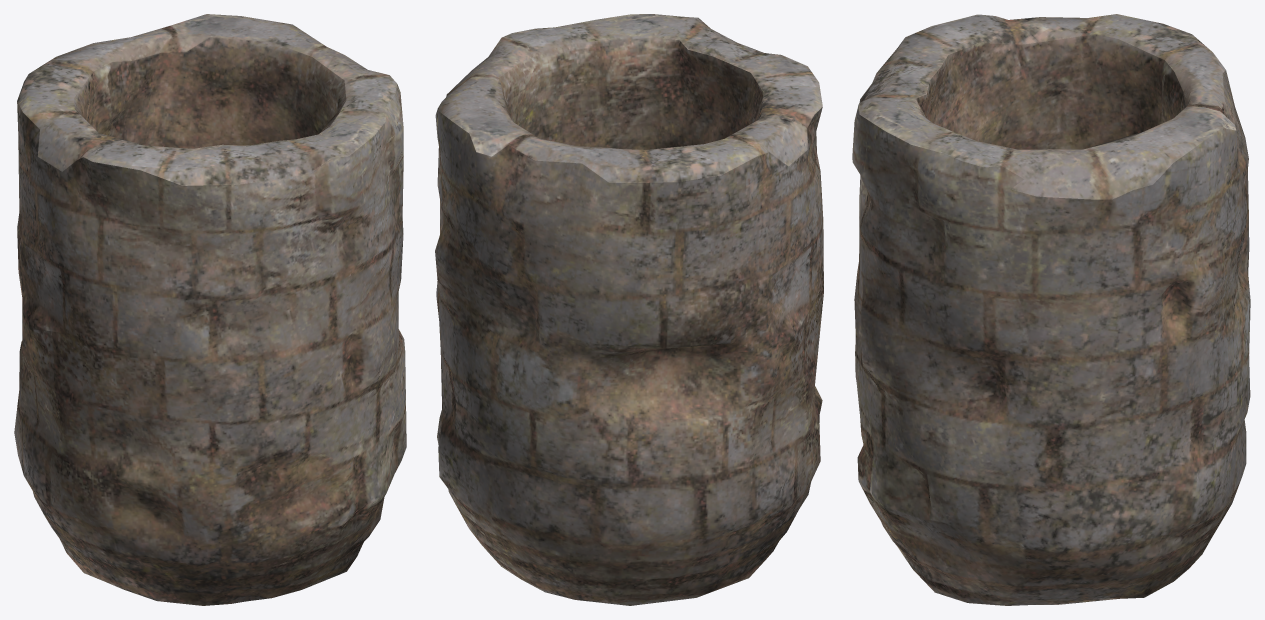
Rendered from SM_RoundStones.FBX.
The picture shows the model from 3 angles, left to right: view 1: azimuth 30°, elevation 25°; view 2: azimuth 150°, elevation 25°; view 3: azimuth 270°, elevation 25°; orthographic projection. The views are drawn at different scales.
Visible parts, largest first — view 1: SM_RoundStones; view 2: SM_RoundStones; view 3: SM_RoundStones.
Boxes of the visible parts, <box> form: SM_RoundStones: <box>14,14,406,605</box>; SM_RoundStones: <box>435,14,823,605</box>; SM_RoundStones: <box>852,14,1250,605</box>.
Bounding box in the file's own units: 309 × 307 × 398.
